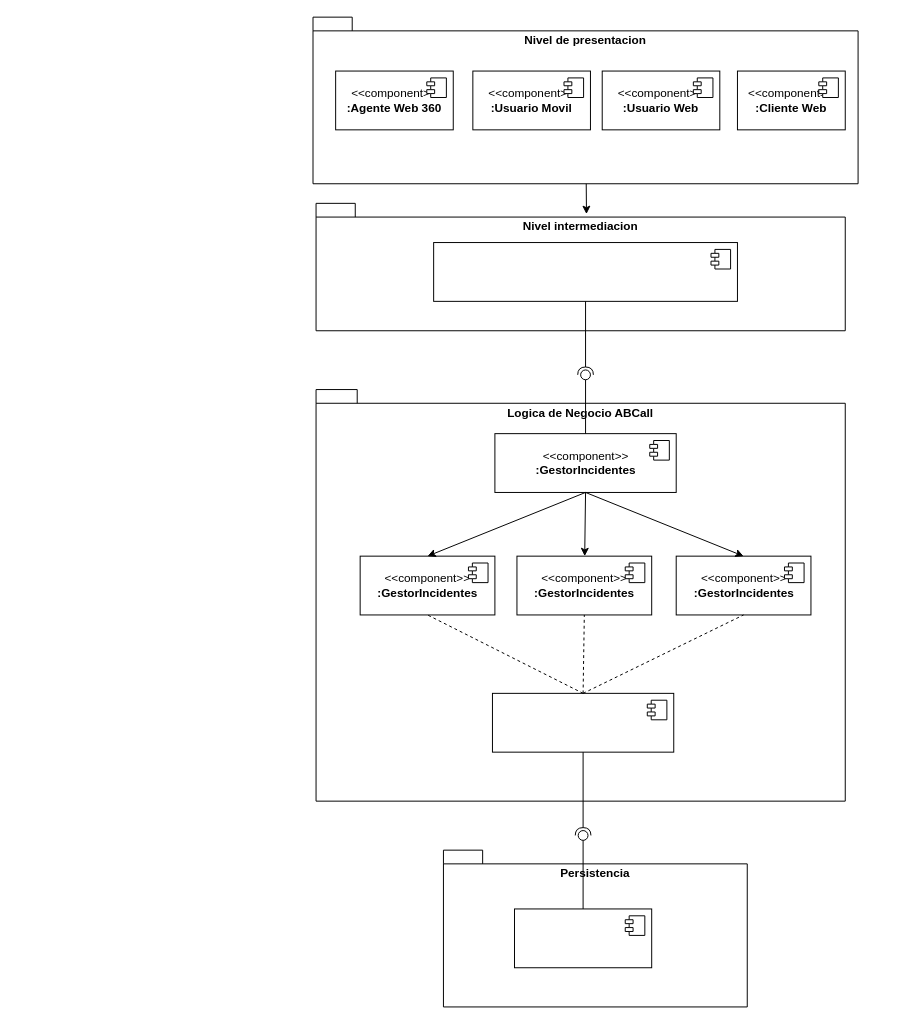
Some shapes in this 910 by 1024 pixel diagram are drawn without their labels. The centre of each missing label's shape, as x and y in pixels:
"<<component>> :API ABCall" goes at point (585, 271).
"<<component>> :DBMS" goes at point (583, 938).
"<<component>> :GestorDeDatos" goes at point (582, 722).
